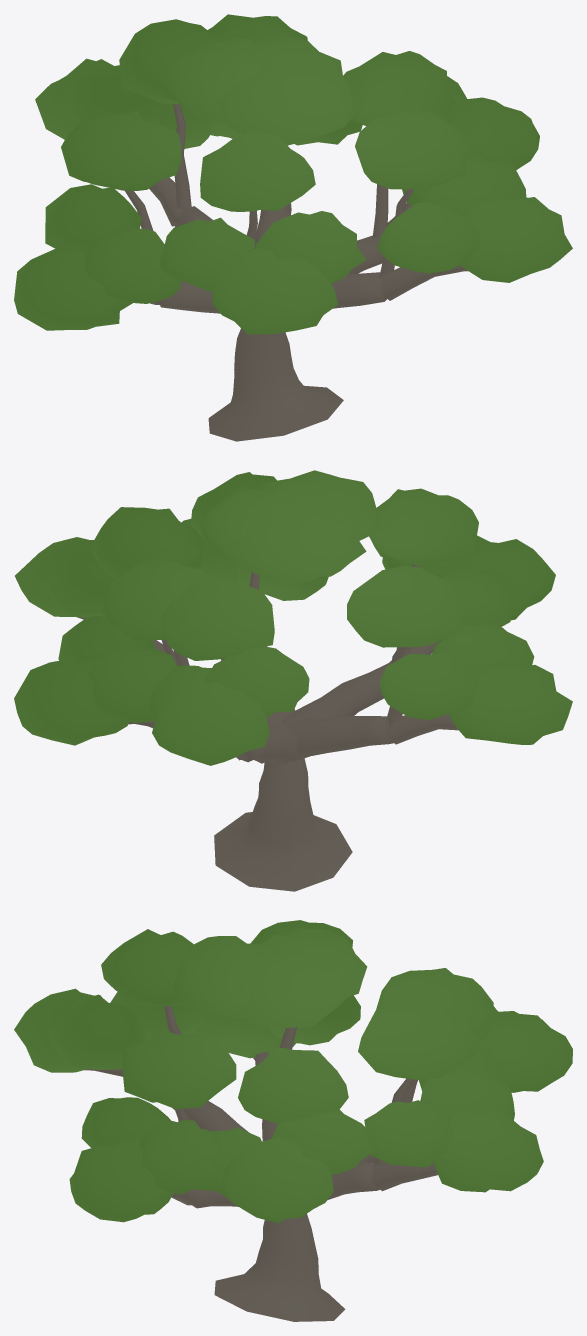
Rendered from Blender_BurOak_1.glb.
The picture shows the model from 3 angles, top to bottom: view 1: azimuth 30°, elevation 25°; view 2: azimuth 150°, elevation 25°; view 3: azimuth 270°, elevation 25°; orthographic projection. The views are drawn at different scales.
Parts seen in each view (by area): view 1: Blender_BurOak_1; view 2: Blender_BurOak_1; view 3: Blender_BurOak_1.
Boxes of the visible parts, x1=… form: Blender_BurOak_1: x1=14, y1=14, x2=572, y2=441; Blender_BurOak_1: x1=14, y1=470, x2=572, y2=891; Blender_BurOak_1: x1=14, y1=920, x2=572, y2=1321.
Size of the model in its own units: 28.34 by 18.89 by 26.61.
